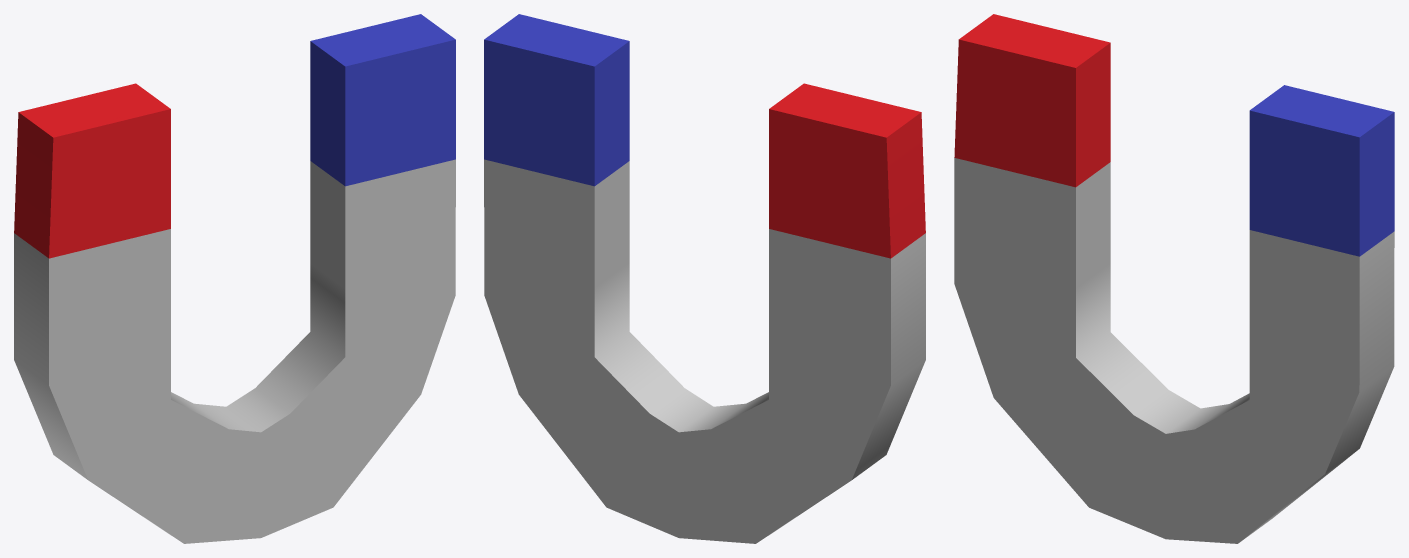
Rendered from Player(Back).FBX.
3 views of the same model, side by side, from view 1: azimuth 30°, elevation 25°; view 2: azimuth 150°, elevation 25°; view 3: azimuth 330°, elevation 25° (orthographic).
Parts seen in each view (by area): view 1: Box004; view 2: Box004; view 3: Box004.
Boxes of the visible parts, bbox=[...] form: Box004: bbox=[14, 14, 455, 543]; Box004: bbox=[484, 14, 925, 543]; Box004: bbox=[954, 14, 1394, 543].
Size of the model in its own units: 68.5 by 10.19 by 72.57.
